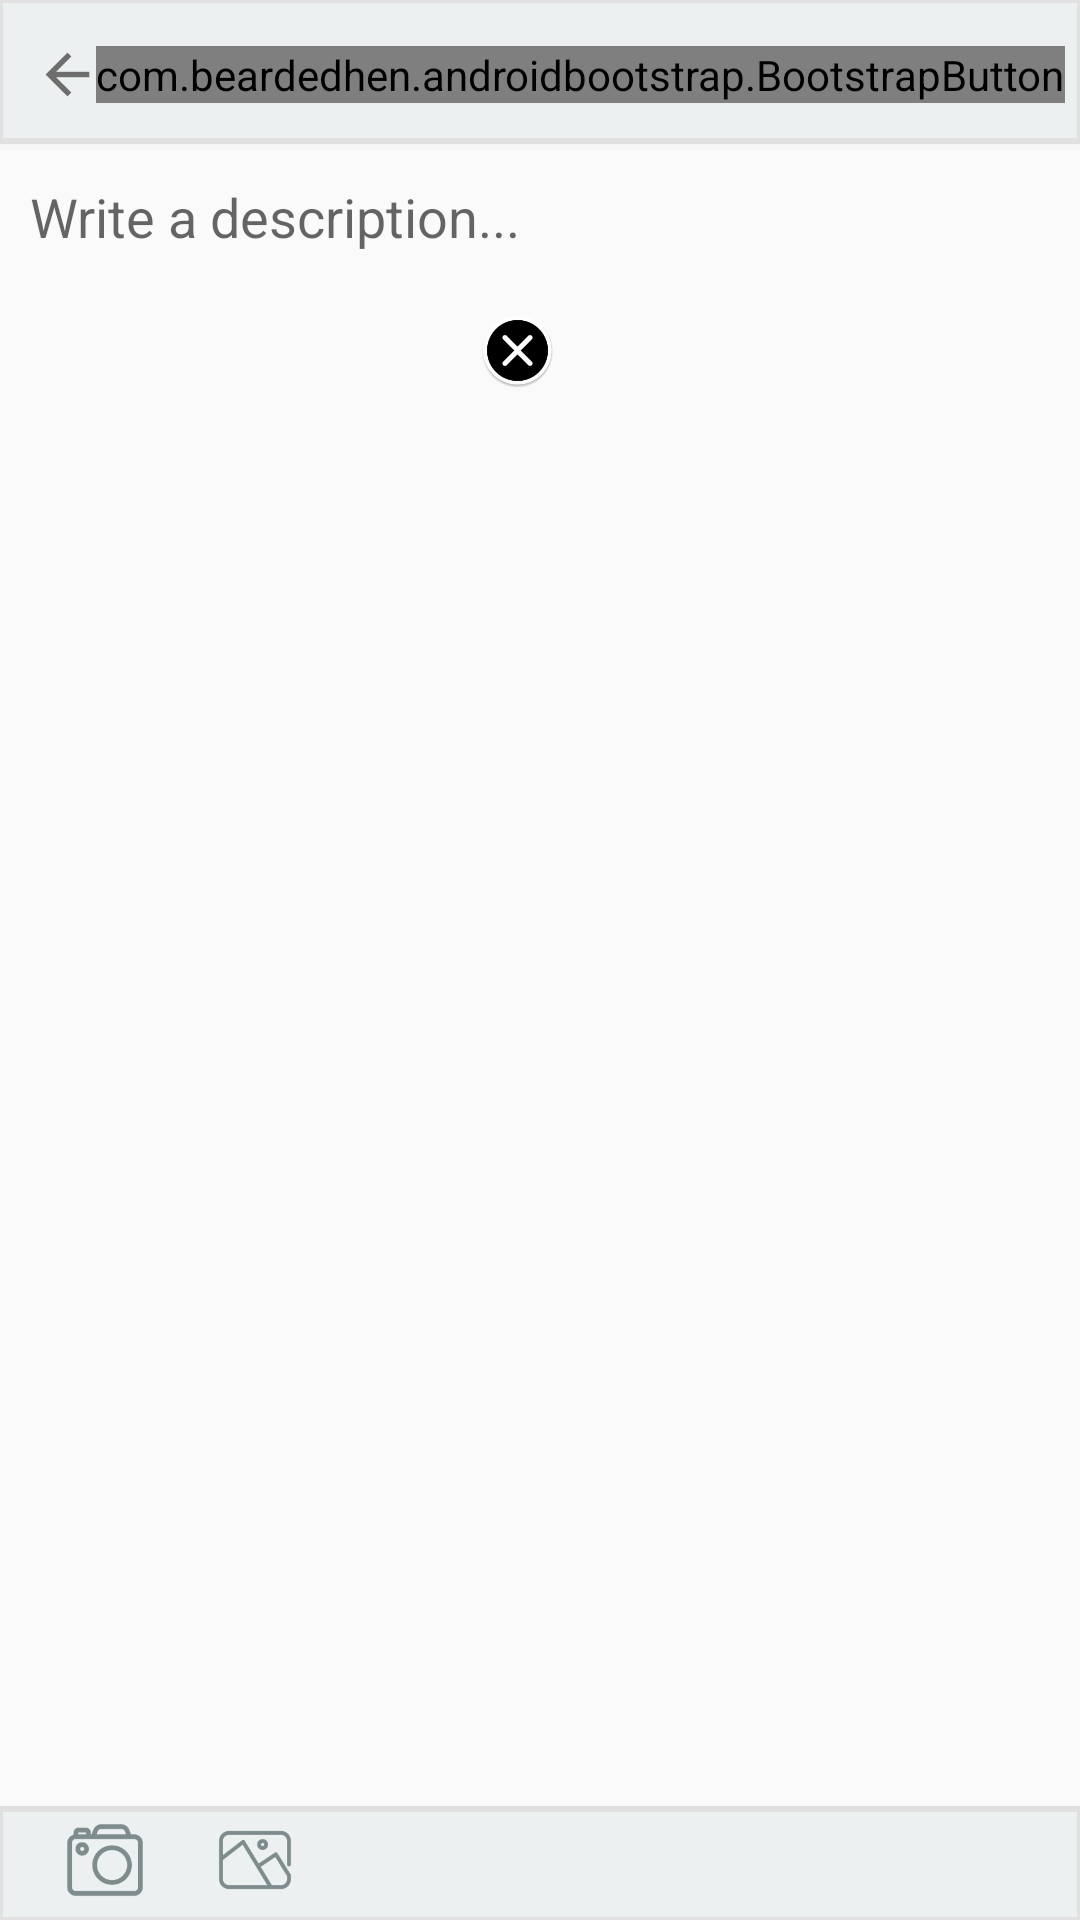

Locate icon controls on the screen. Image size 1080 × 1920, boxes as (x1, y1, x2, y2).
back arrow: (46, 53, 90, 96)
close: (484, 320, 552, 387)
open camera: (67, 1824, 143, 1896)
open gallery: (219, 1831, 291, 1889)
